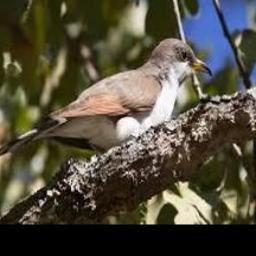Cuckoo: (0, 37, 213, 160)
